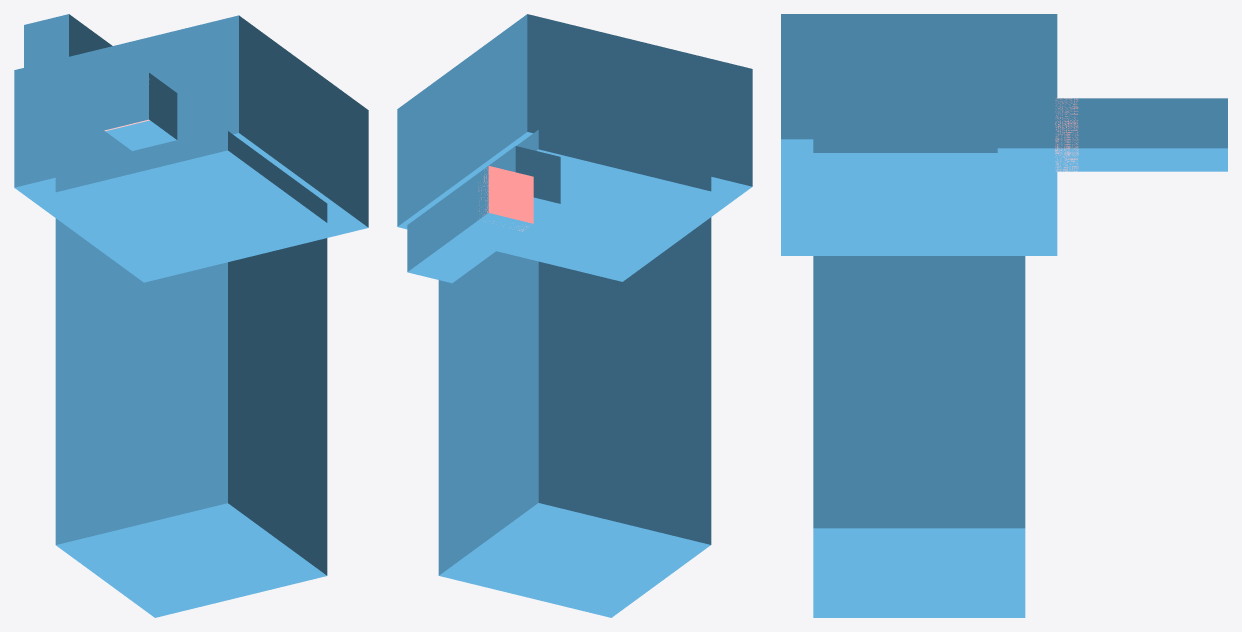
The model's file is building-sentry.glb.
The picture shows the model from 3 angles, left to right: view 1: azimuth 30°, elevation 25°; view 2: azimuth 150°, elevation 25°; view 3: azimuth 270°, elevation 25°; orthographic projection. The views are drawn at different scales.
Parts seen in each view (by area): view 1: building-sentry; view 2: building-sentry; view 3: building-sentry.
Part boxes in pixels (x1,y1,x2,y2): building-sentry: [14, 14, 368, 617]; building-sentry: [397, 14, 752, 617]; building-sentry: [781, 14, 1227, 617].
Size of the model in its own units: 0.6 by 1.2 by 0.97.
